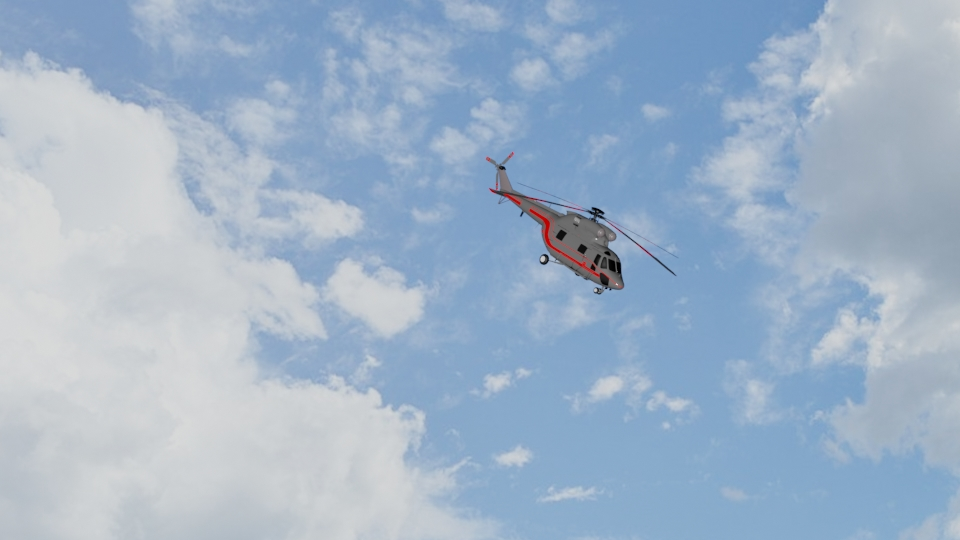heli: (479, 149, 681, 295)
